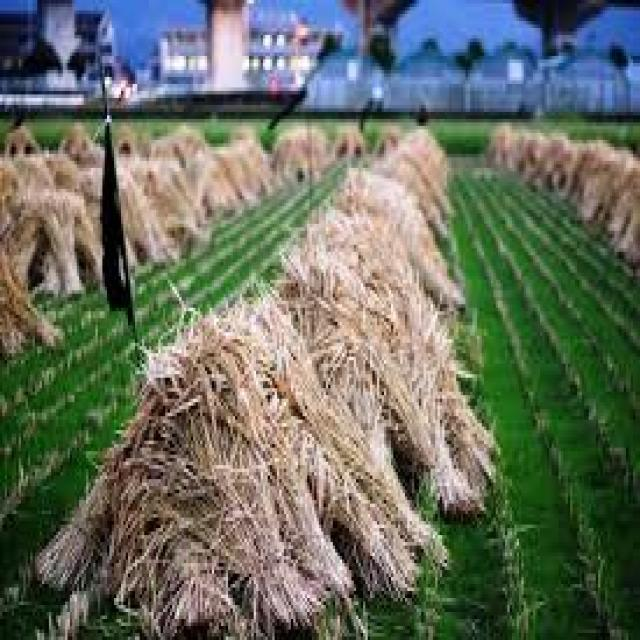stubble_waste: (78, 357, 333, 640), (342, 280, 494, 575), (0, 134, 91, 343), (362, 137, 459, 269), (564, 142, 640, 259)
